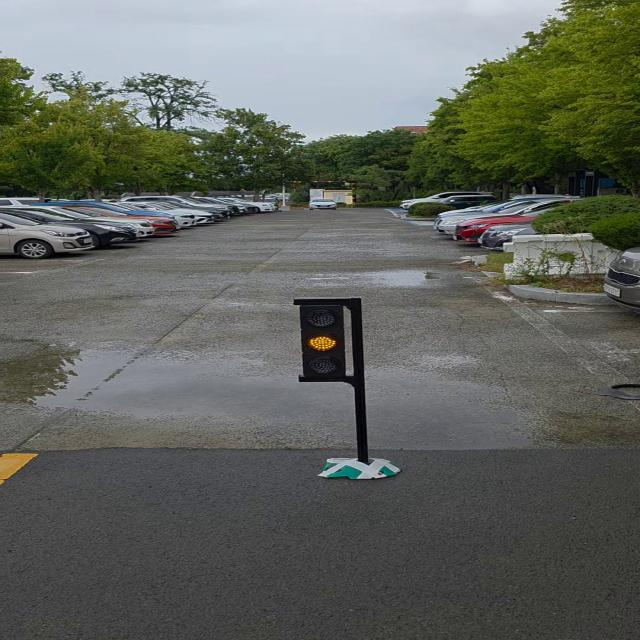yellow: (299, 298, 356, 381)
